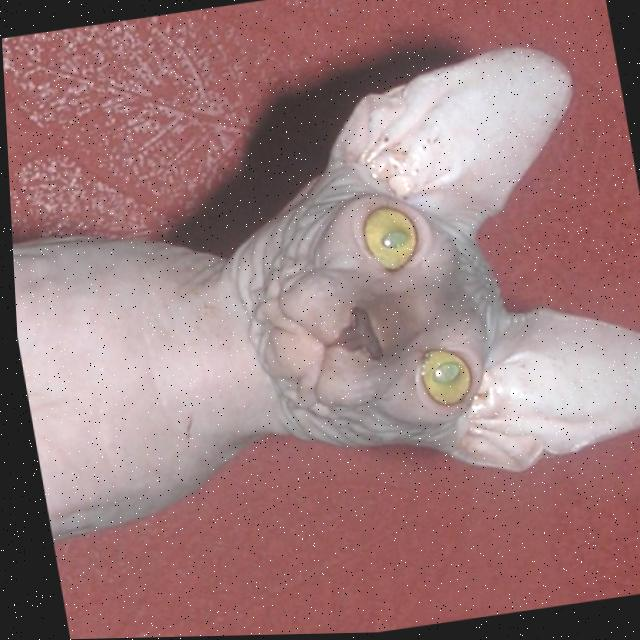Sphynx: (2, 32, 640, 562)
